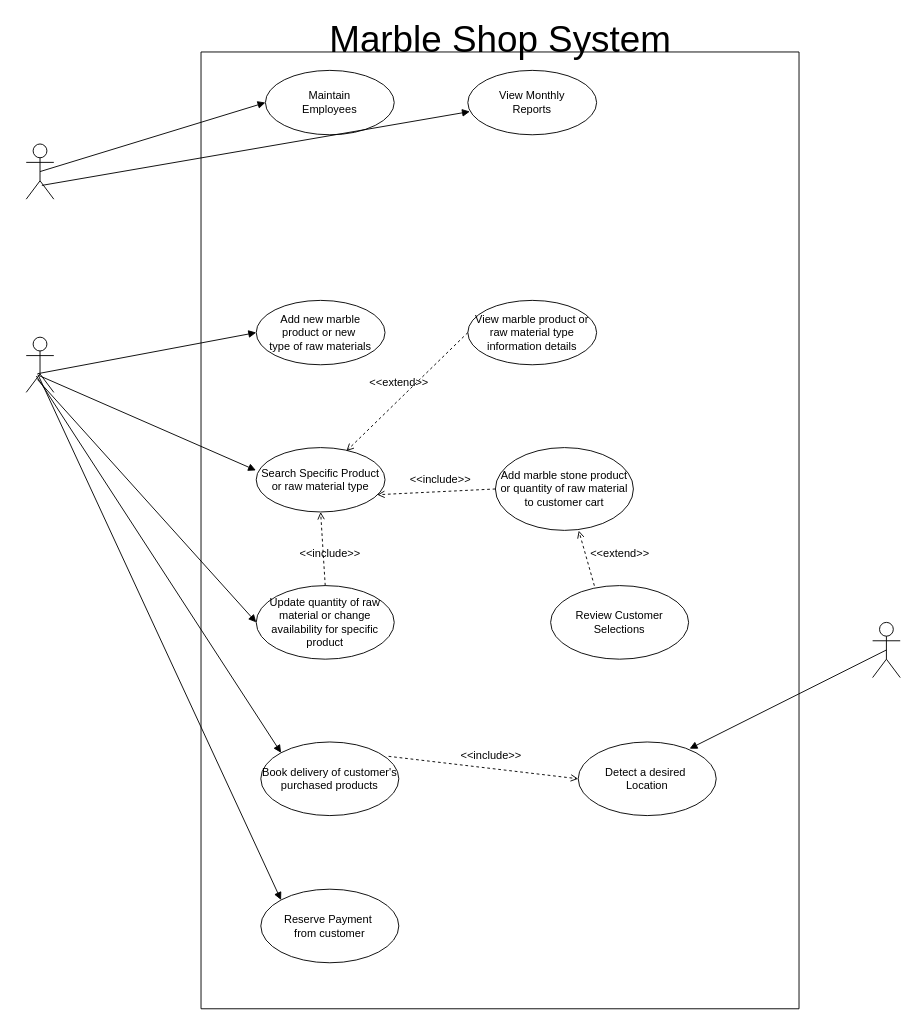
Some shapes in this 916 by 1025 pixel diagram are drawn without their labels. Here are the shapes that lost their labels. From the top down, the centre of each, then its label:
pixel 39 171: Store Manager
pixel 39 364: Employee
pixel 886 649: GPS
